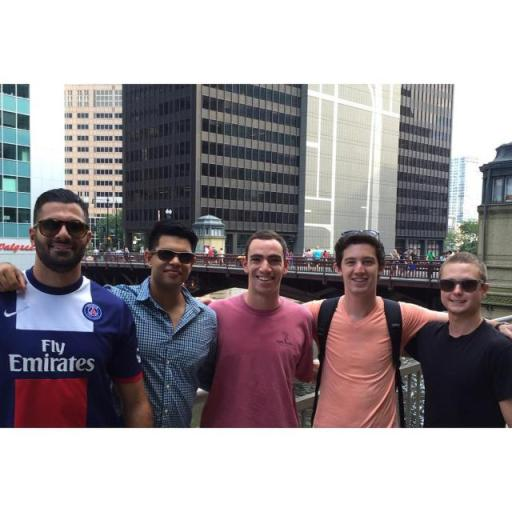Emirates: (7, 336, 96, 375)
